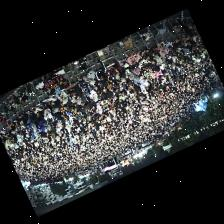person: (94, 56, 106, 80), (40, 102, 51, 123), (107, 61, 121, 76), (57, 105, 69, 121), (126, 52, 139, 66), (45, 94, 59, 107), (51, 107, 61, 125), (65, 82, 77, 97), (55, 90, 67, 103), (82, 70, 93, 84), (70, 88, 80, 103), (139, 48, 151, 60), (86, 96, 96, 110), (60, 97, 70, 111), (77, 78, 88, 90), (29, 105, 41, 116), (139, 77, 148, 91), (106, 73, 116, 85), (88, 78, 98, 90), (80, 101, 89, 114), (97, 81, 107, 92), (164, 40, 174, 51), (18, 113, 27, 125), (25, 115, 31, 133), (153, 54, 162, 66), (158, 49, 169, 58), (171, 39, 182, 48), (141, 63, 152, 72), (79, 85, 88, 96), (89, 87, 96, 101), (37, 120, 43, 136), (132, 73, 140, 85), (124, 67, 132, 79), (138, 59, 147, 68), (153, 71, 163, 79), (30, 122, 36, 135), (105, 91, 112, 102), (168, 51, 177, 59), (143, 71, 152, 79), (114, 74, 123, 82), (106, 82, 114, 91), (180, 34, 186, 46), (119, 58, 127, 67), (8, 122, 14, 133), (80, 93, 85, 106), (129, 65, 139, 71), (3, 126, 10, 134), (16, 134, 21, 145), (96, 102, 101, 113), (148, 57, 155, 63)
